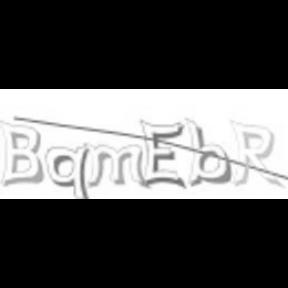B: (0, 118, 44, 188)
E: (138, 117, 188, 192)
R: (228, 118, 286, 192)
b: (184, 114, 232, 188)
m: (86, 140, 148, 188)
q: (44, 142, 90, 200)
